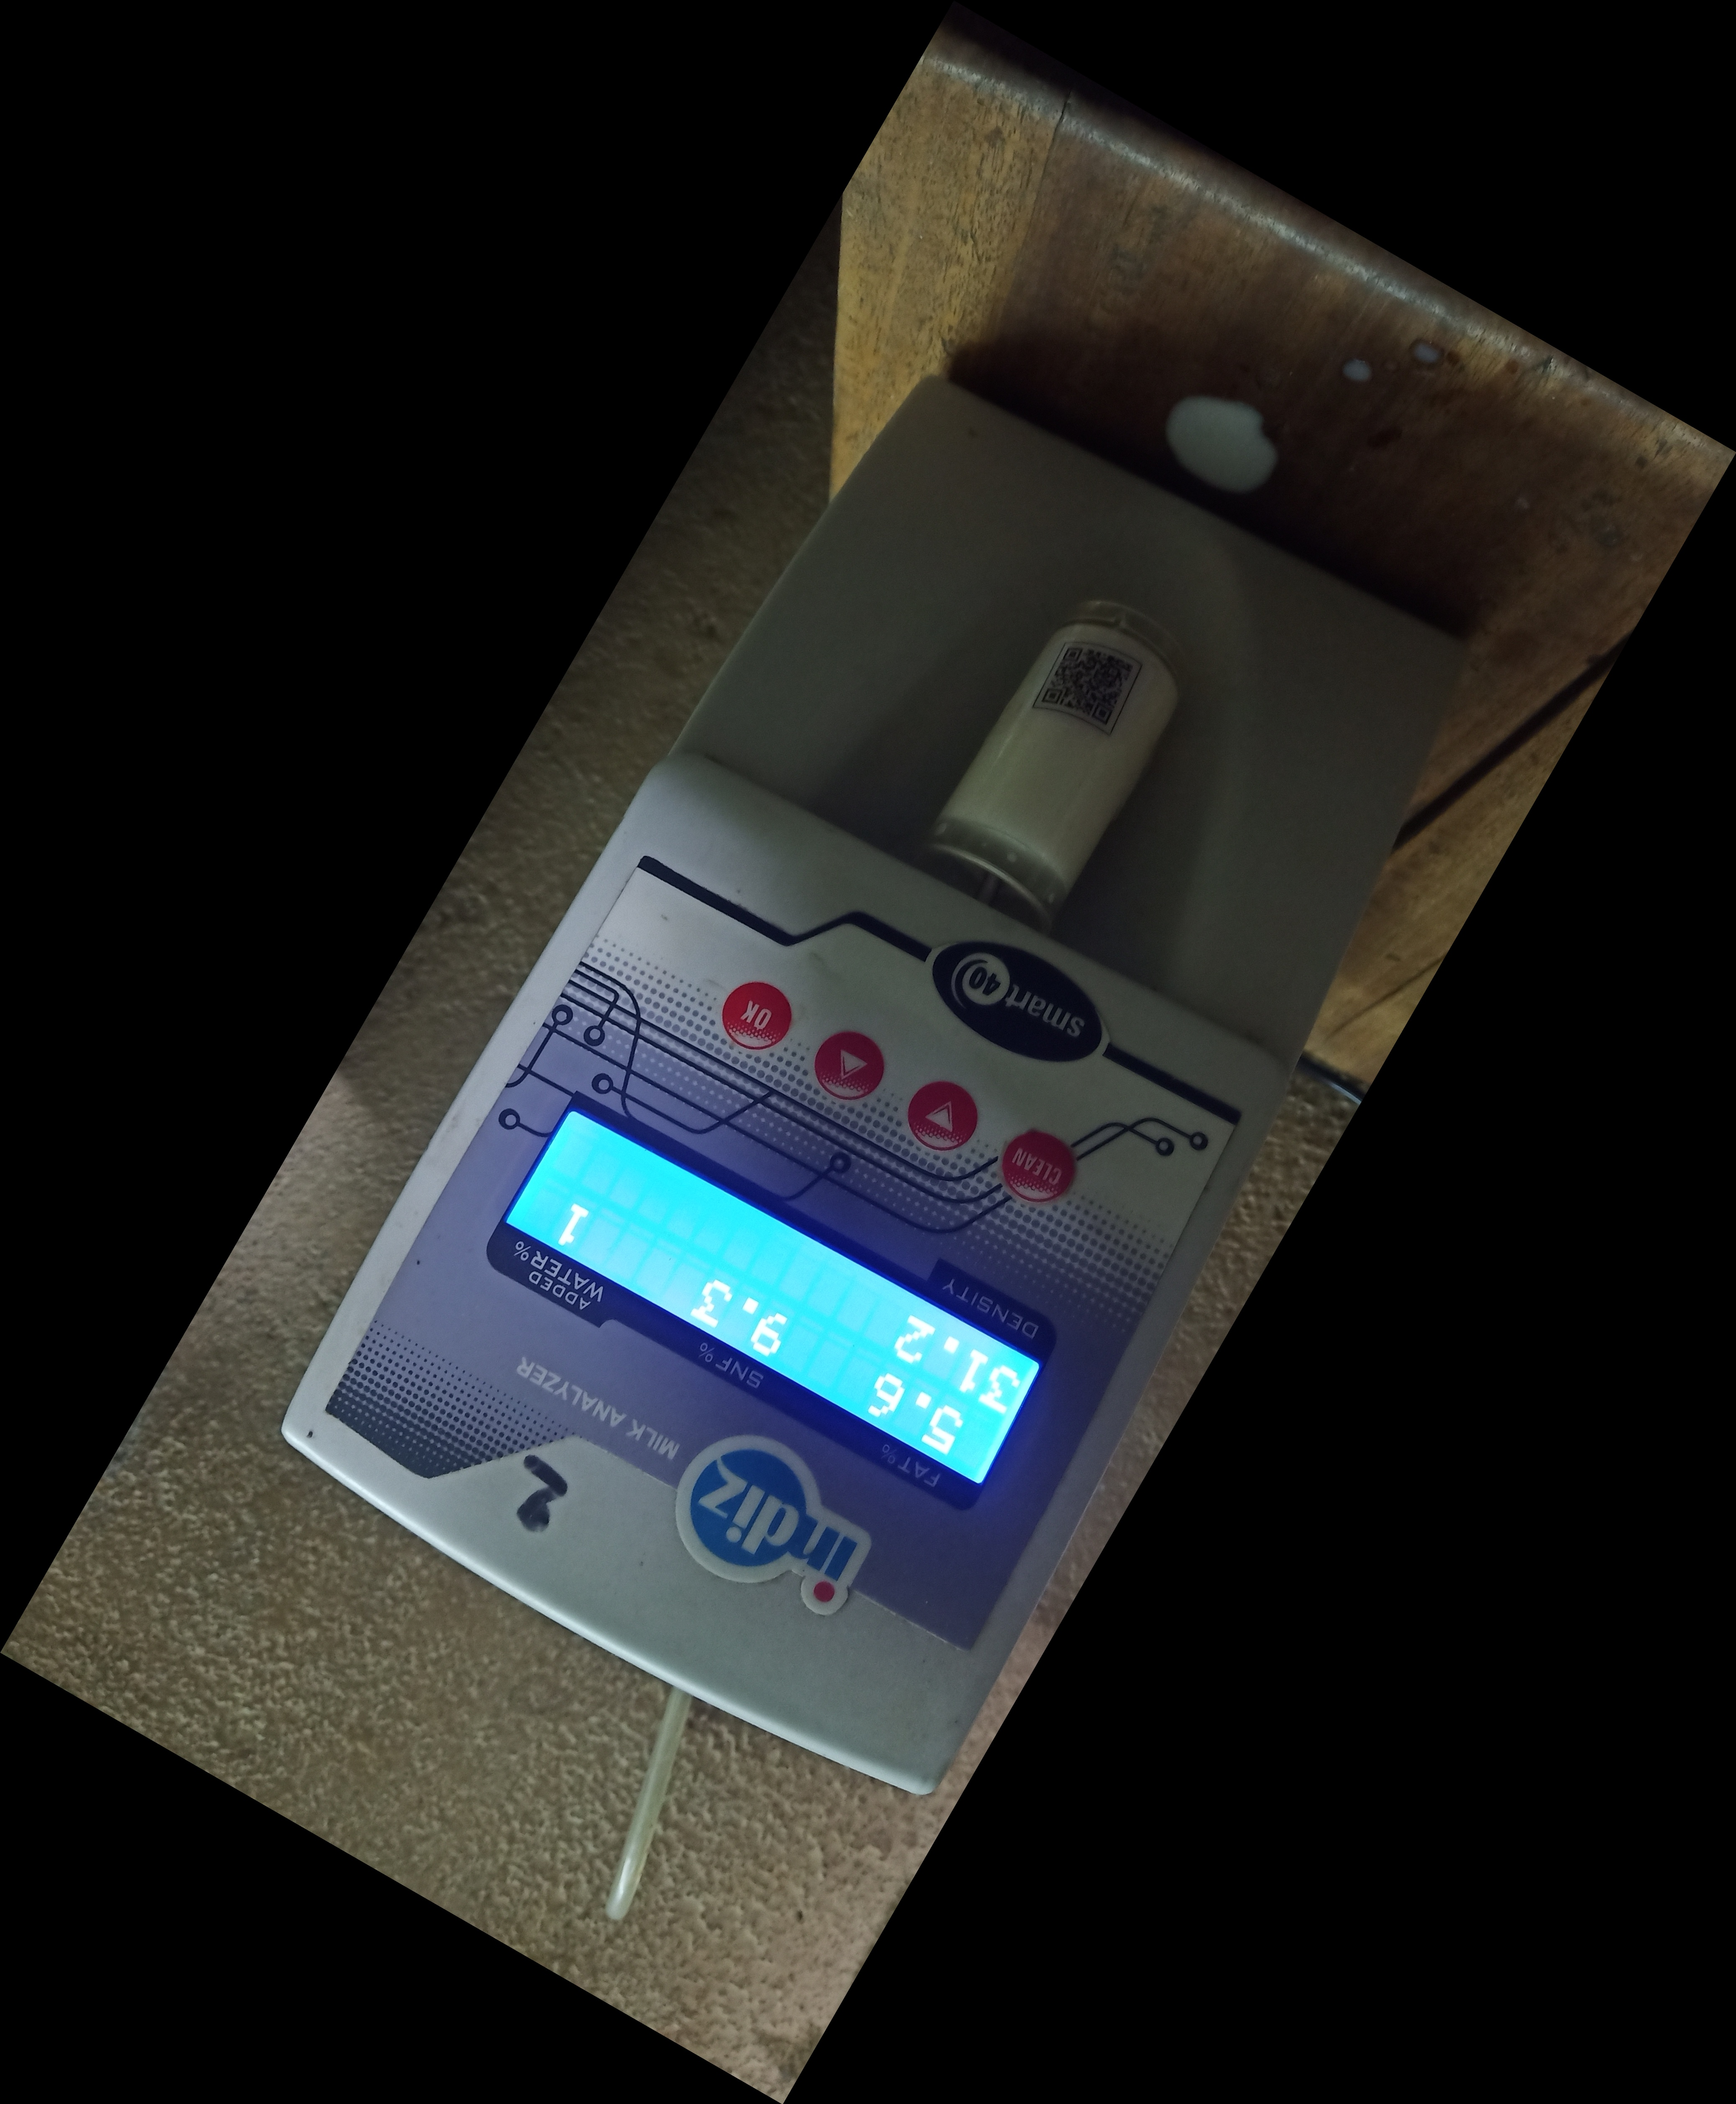lcd: (489, 1094, 1057, 1529)
qr: (1030, 627, 1158, 746)
